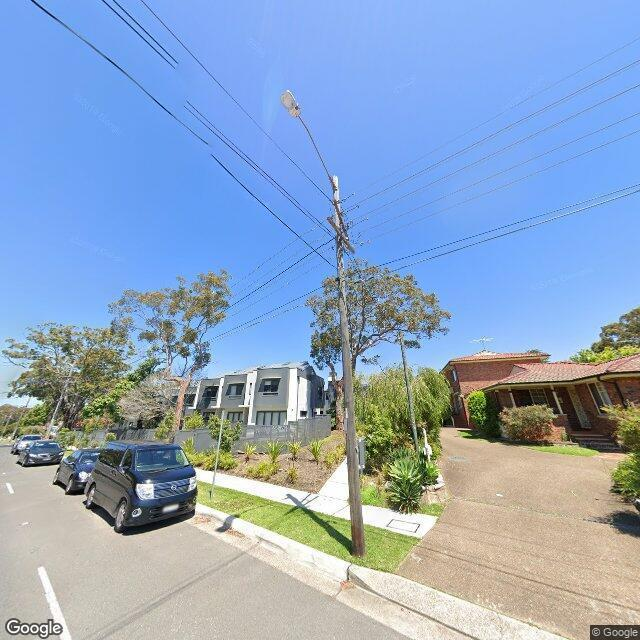crossarm: (326, 215, 356, 255), (333, 199, 349, 239), (60, 376, 74, 378)
streetlight: (278, 90, 338, 192)
timber-pole: (332, 176, 367, 557), (44, 365, 74, 440)
